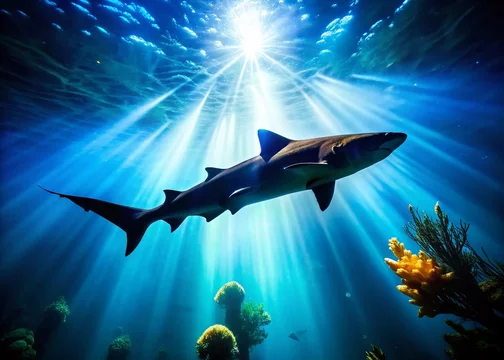Leopard Shark: (23, 74, 476, 276)
